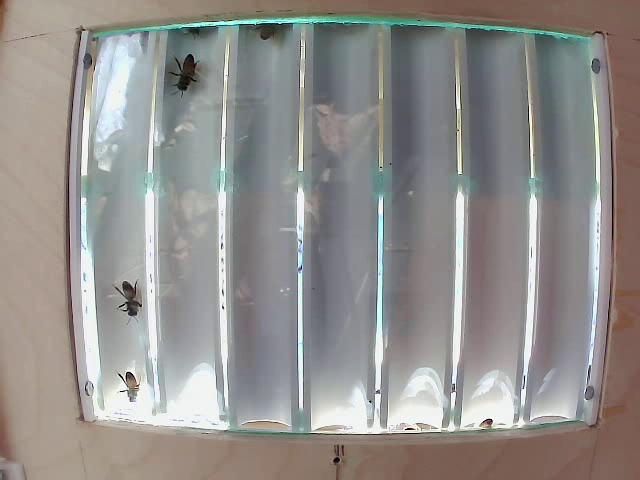bee: (109, 273, 153, 319), (112, 359, 151, 408), (170, 46, 193, 88)
